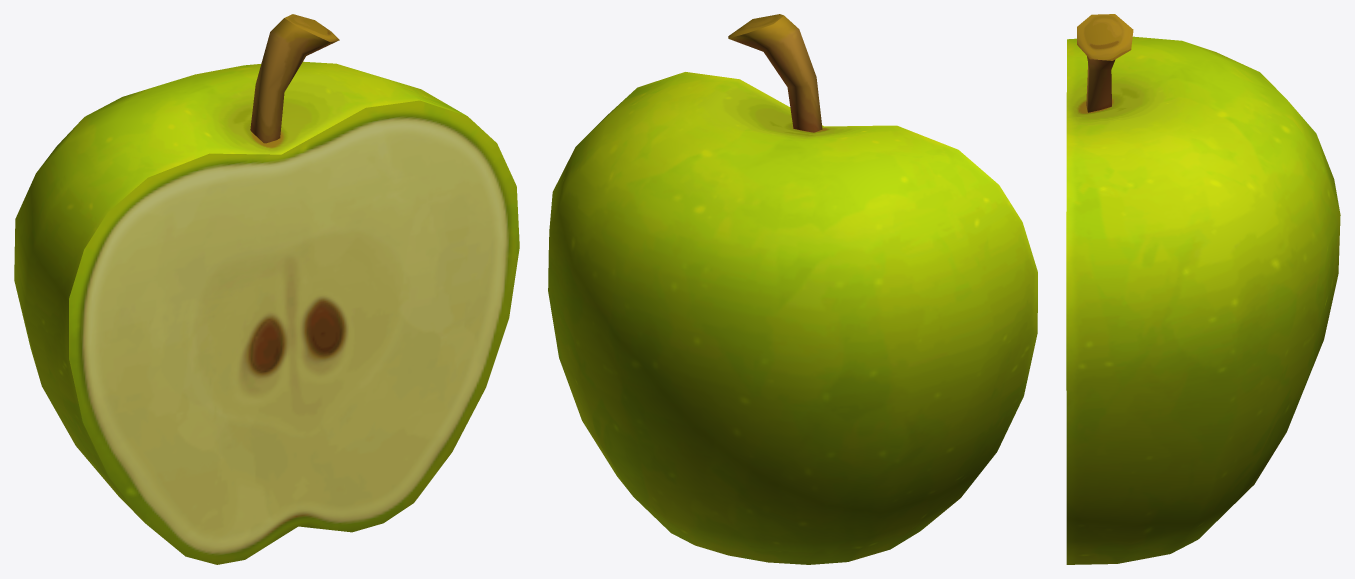
Rendered from SM_AppleGreenCutA.fbx.
3 views of the same model, side by side, from view 1: azimuth 30°, elevation 25°; view 2: azimuth 150°, elevation 25°; view 3: azimuth 270°, elevation 25° (orthographic).
Parts seen in each view (by area): view 1: SM_AppleGreenCut; view 2: SM_AppleGreenCut; view 3: SM_AppleGreenCut.
Part boxes in pixels (left/top/right/bottom): SM_AppleGreenCut: left=14, top=14, right=519, bottom=564; SM_AppleGreenCut: left=548, top=14, right=1037, bottom=564; SM_AppleGreenCut: left=1066, top=14, right=1340, bottom=564.
Bounding box in the file's own units: 13.06 × 14.11 × 6.81.
